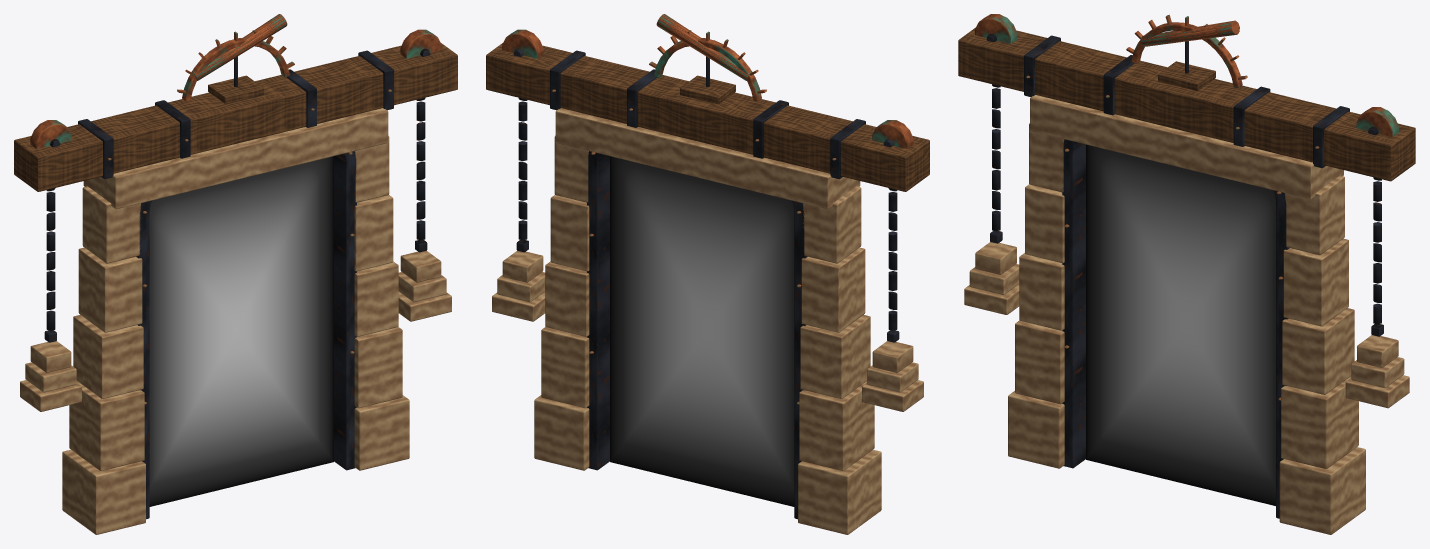
The model's file is sandstone_quarry.glb.
3 views of the same model, side by side, from view 1: azimuth 30°, elevation 25°; view 2: azimuth 150°, elevation 25°; view 3: azimuth 330°, elevation 25° (orthographic). The views are drawn at different scales.
Visible parts, largest first — view 1: Frame, Veil, Frame_Detail; view 2: Frame, Veil, Frame_Detail; view 3: Frame, Veil, Frame_Detail.
Part boxes in pixels (<box>): Frame: <box>14,14,457,534</box>; Veil: <box>149,156,333,506</box>; Frame_Detail: <box>46,30,425,404</box>; Frame: <box>486,14,929,534</box>; Veil: <box>610,156,794,506</box>; Frame_Detail: <box>518,30,897,404</box>; Frame: <box>958,14,1415,534</box>; Veil: <box>1086,144,1275,505</box>; Frame_Detail: <box>992,14,1381,400</box>.
Bounding box in the file's own units: 3 × 3.14 × 0.42.
Materials: 5 (4 with a texture image).
